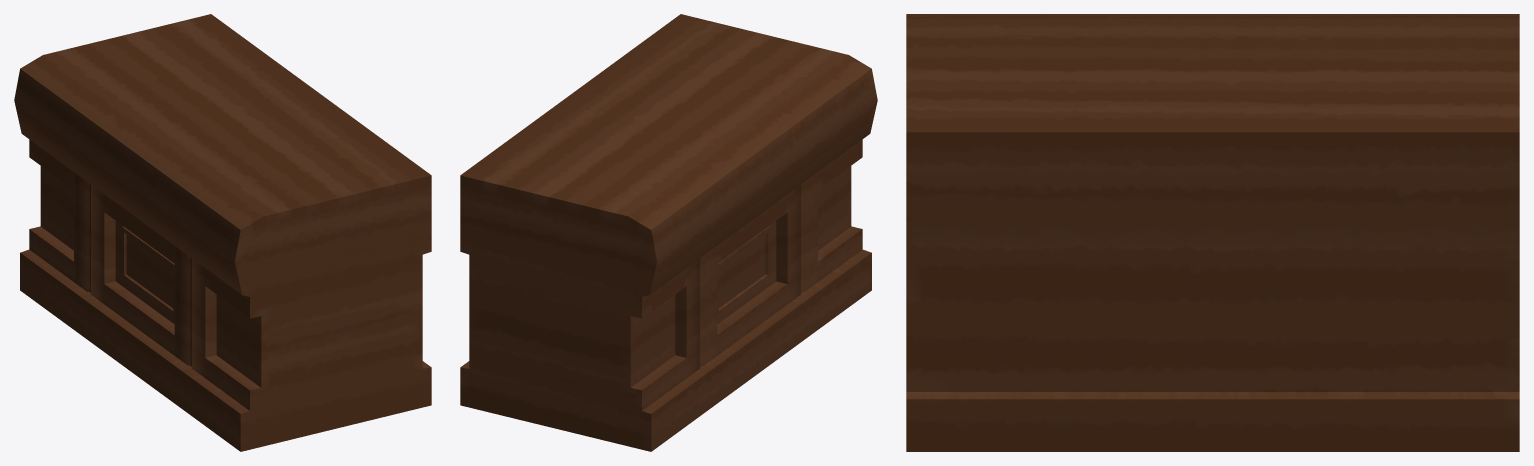
The model's file is droit.fbx.
The picture shows the model from 3 angles, left to right: view 1: azimuth 30°, elevation 25°; view 2: azimuth 150°, elevation 25°; view 3: azimuth 270°, elevation 25°; orthographic projection. The views are drawn at different scales.
Visible parts, largest first — view 1: T2_bar_droit; view 2: T2_bar_droit; view 3: T2_bar_droit.
Boxes of the visible parts, left/top/right/bottom form: T2_bar_droit: left=14, top=14, right=431, bottom=451; T2_bar_droit: left=460, top=14, right=877, bottom=451; T2_bar_droit: left=906, top=14, right=1519, bottom=451.
Bounding box in the file's own units: 103 × 115 × 200.
1 material, 1 textured.
